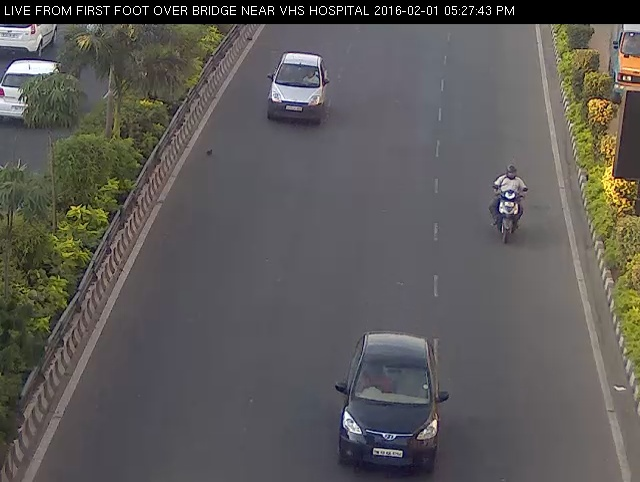Car: (329, 329, 454, 477), (261, 44, 334, 138)
Person: (484, 162, 530, 250)
